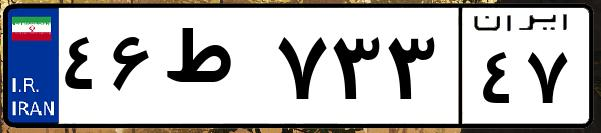3: (385, 28, 445, 110), (330, 28, 385, 110)
4: (57, 26, 110, 100), (475, 38, 525, 113)
6: (110, 28, 158, 98)
7: (270, 28, 330, 110), (525, 38, 570, 115)
ط: (158, 20, 270, 120)
